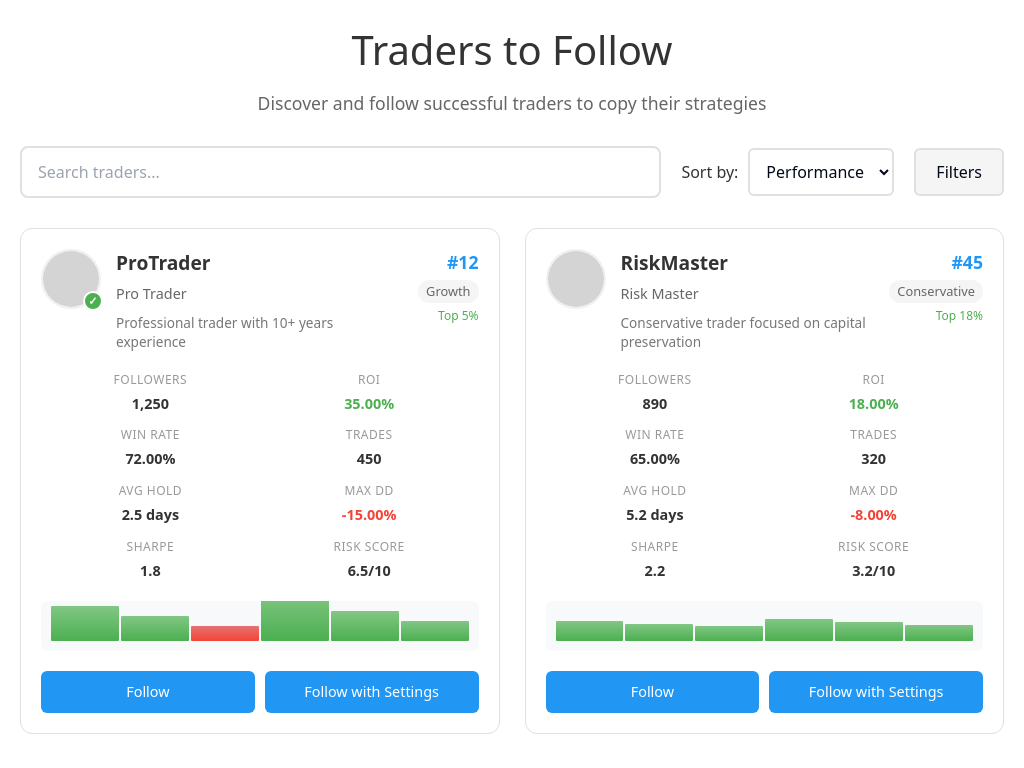
Test: TradersToFollow › Trader Details Modal › should open trader details modal when trader card is clicked
Check: the heading "ProTrader" is shown, box [116,249,210,276]
Click the button with test id "trader-card-trader-1": click(39, 249) [20,228,500,734]
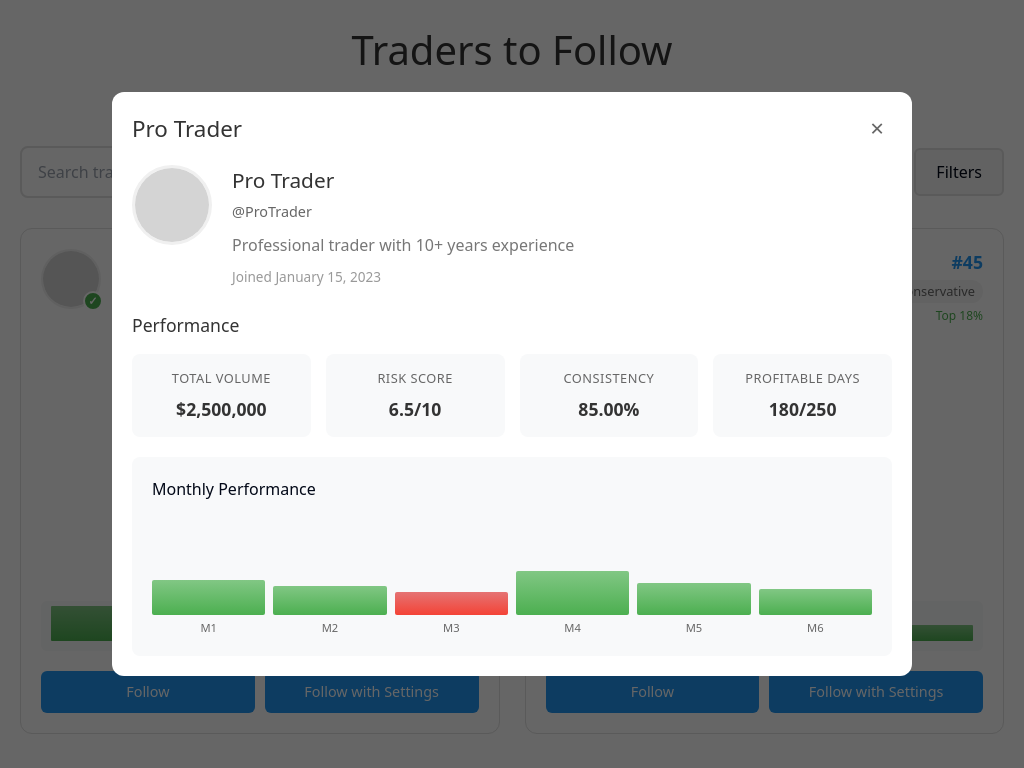
Check: the element with test id "trader-details-modal" is shown, box [112,92,912,676]
